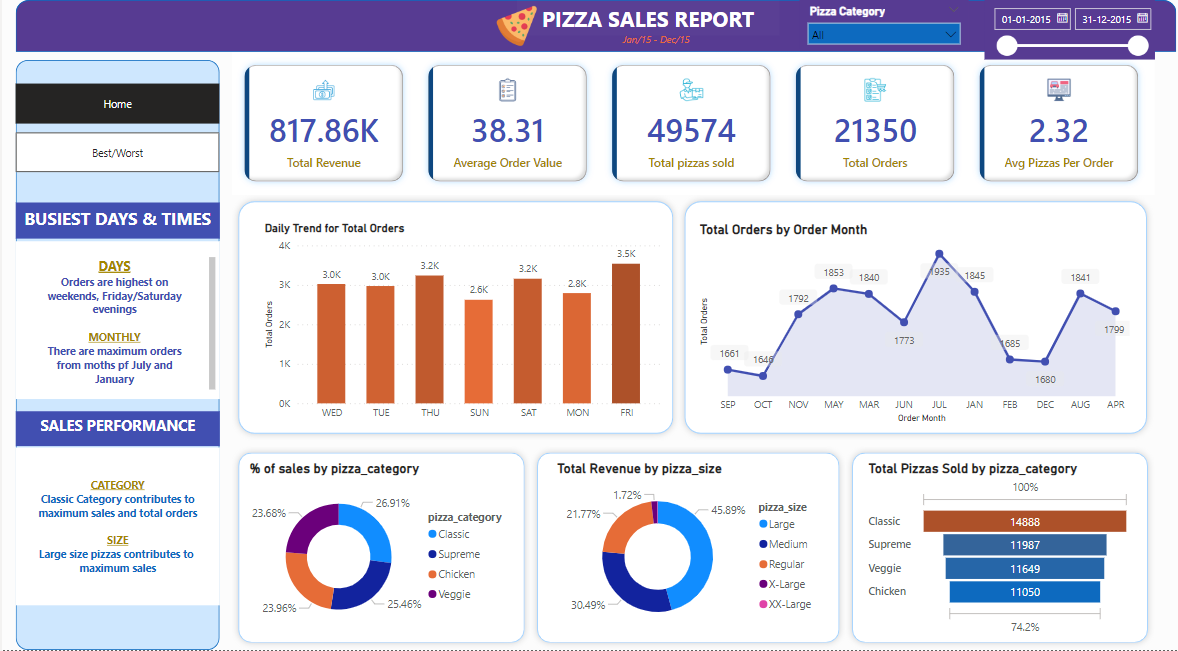

The page's visual inventory and layout, read from the dashboard file:
{"tool":"powerbi","page":{"name":"Home","canvas":[1500,820],"ordinal":0},"visuals":[{"type":"cardVisual","fields":{"Data":["pizza_sales.Total Revenue","pizza_sales.Average Order Value","pizza_sales.Total pizzas sold","pizza_sales.Total Orders","pizza_sales.Avg Pizzas Per Order"]},"box":[290.3,66.3,1164.5,179.9],"z":0},{"type":"shape","box":[17.7,0,1465.1,65.4],"z":1000},{"type":"textbox","box":[649.5,0,330.9,44.9],"z":2000},{"type":"textbox","box":[750.3,34,152.5,31.3],"z":3000},{"type":"image","box":[618.2,0,62.6,65.4],"z":4000},{"type":"shape","box":[290.3,246.2,564.9,309.3],"z":5000},{"type":"columnChart","title":"Daily Trend for Total Orders","fields":{"Category":["pizza_sales.Order Day"],"Y":["pizza_sales.Total Orders"]},"box":[326.8,279.1,510.6,260.1],"z":6000},{"type":"shape","box":[853.7,246.2,599.6,309.3],"z":7000},{"type":"areaChart","fields":{"Category":["pizza_sales.Order Month"],"Y":["pizza_sales.Total Orders"]},"box":[876.3,278.9,553,259.9],"z":8000},{"type":"shape","box":[290,563.7,377.2,256],"z":9000},{"type":"shape","box":[1064.8,563.7,389.4,256],"z":10000},{"type":"shape","box":[667.2,563.7,397.6,256],"z":11000},{"type":"donutChart","title":"% of sales by pizza_category","fields":{"Category":["pizza_sales.pizza_category"],"Y":["pizza_sales.Total Revenue"]},"box":[307.4,580,343.9,225],"z":12000},{"type":"donutChart","fields":{"Category":["pizza_sales.pizza_size"],"Y":["pizza_sales.Total Revenue"]},"box":[695.7,580,343.9,225],"z":13000},{"type":"shape","box":[17.4,75.7,257.2,744.8],"z":14000},{"type":"funnel","title":"Total Pizzas Sold by pizza_category","fields":{"Category":["pizza_sales.pizza_category"],"Y":["pizza_sales.Total pizzas sold"]},"box":[1088.6,580,340.7,225],"z":15000},{"type":"textbox","box":[17.4,255.6,257.2,45.8],"z":16000},{"type":"textbox","box":[17.4,304.5,257.2,198.8],"z":17000},{"type":"textbox","box":[17.4,564.9,257.2,198.8],"z":18000},{"type":"textbox","box":[17.4,519.1,257.2,44.2],"z":19000},{"type":"slicer","fields":{"Values":["pizza_sales.pizza_category"]},"box":[1006.7,0,213.4,61.9],"z":20000},{"type":"slicer","fields":{"Values":["pizza_sales.order_date"]},"box":[1239.7,0,215,74.9],"z":21000},{"type":"pageNavigator","box":[17.4,105.7,257.2,50.5],"z":21001},{"type":"pageNavigator","box":[17.4,167.3,257.2,50.5],"z":21002}]}

Visuals, with their boxes in screenshot pixels (x1, y1, x2, y2), scaled from the page's 1500x820 canvas onto the 1178x651 screenshot:
cardVisual - pizza_sales.Total Revenue x pizza_sales.Average Order Value: x1=228, y1=53, x2=1143, y2=195
shape: x1=14, y1=0, x2=1164, y2=52
textbox: x1=510, y1=0, x2=770, y2=36
textbox: x1=589, y1=27, x2=709, y2=52
image: x1=485, y1=0, x2=535, y2=52
shape: x1=228, y1=195, x2=672, y2=441
"Daily Trend for Total Orders" columnChart: x1=257, y1=222, x2=658, y2=428
shape: x1=670, y1=195, x2=1141, y2=441
areaChart - pizza_sales.Order Month x pizza_sales.Total Orders: x1=688, y1=221, x2=1122, y2=428
shape: x1=228, y1=448, x2=524, y2=650
shape: x1=836, y1=448, x2=1142, y2=650
shape: x1=524, y1=448, x2=836, y2=650
"% of sales by pizza_category" donutChart: x1=241, y1=460, x2=511, y2=639
donutChart - pizza_sales.pizza_size x pizza_sales.Total Revenue: x1=546, y1=460, x2=816, y2=639
shape: x1=14, y1=60, x2=216, y2=650
"Total Pizzas Sold by pizza_category" funnel: x1=855, y1=460, x2=1122, y2=639
textbox: x1=14, y1=203, x2=216, y2=239
textbox: x1=14, y1=242, x2=216, y2=400
textbox: x1=14, y1=448, x2=216, y2=606
textbox: x1=14, y1=412, x2=216, y2=447
slicer - pizza_sales.pizza_category: x1=791, y1=0, x2=958, y2=49
slicer - pizza_sales.order_date: x1=974, y1=0, x2=1142, y2=59
pageNavigator: x1=14, y1=84, x2=216, y2=124
pageNavigator: x1=14, y1=133, x2=216, y2=173
